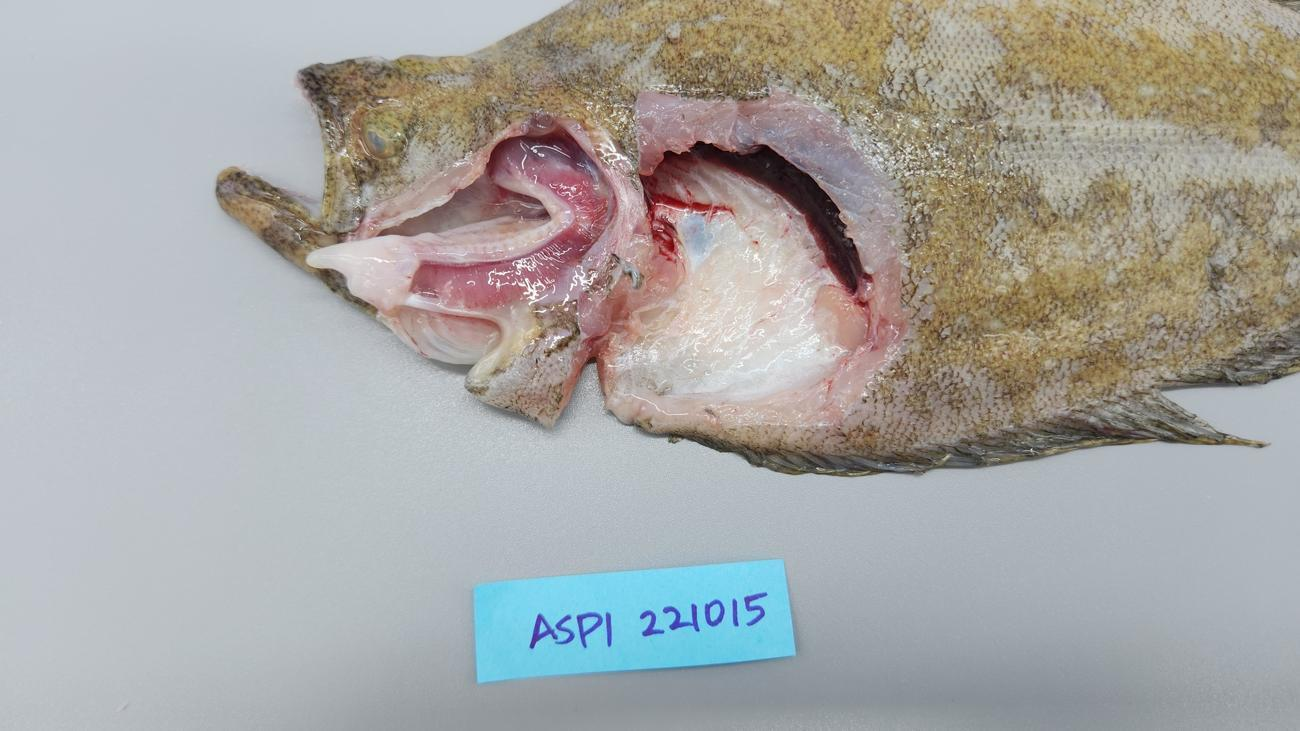SPASQ: (625, 159, 839, 380)
